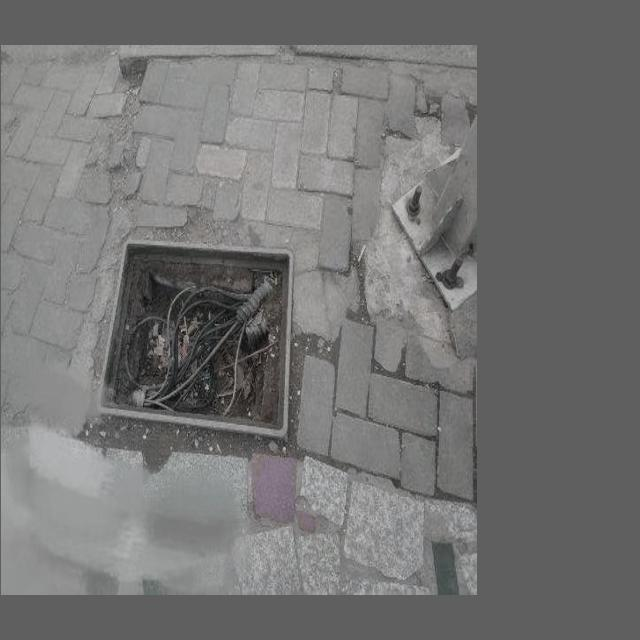lose: (112, 232, 293, 443)
